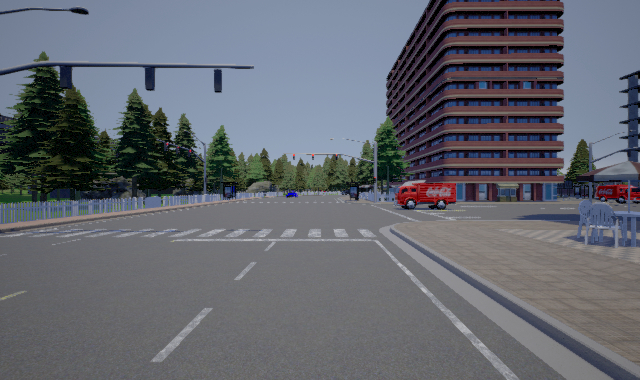traffic_light: (335, 154, 338, 160), (374, 177, 376, 183), (312, 154, 314, 160), (293, 154, 295, 160)
vehicle: (394, 183, 456, 210), (595, 185, 640, 202)
